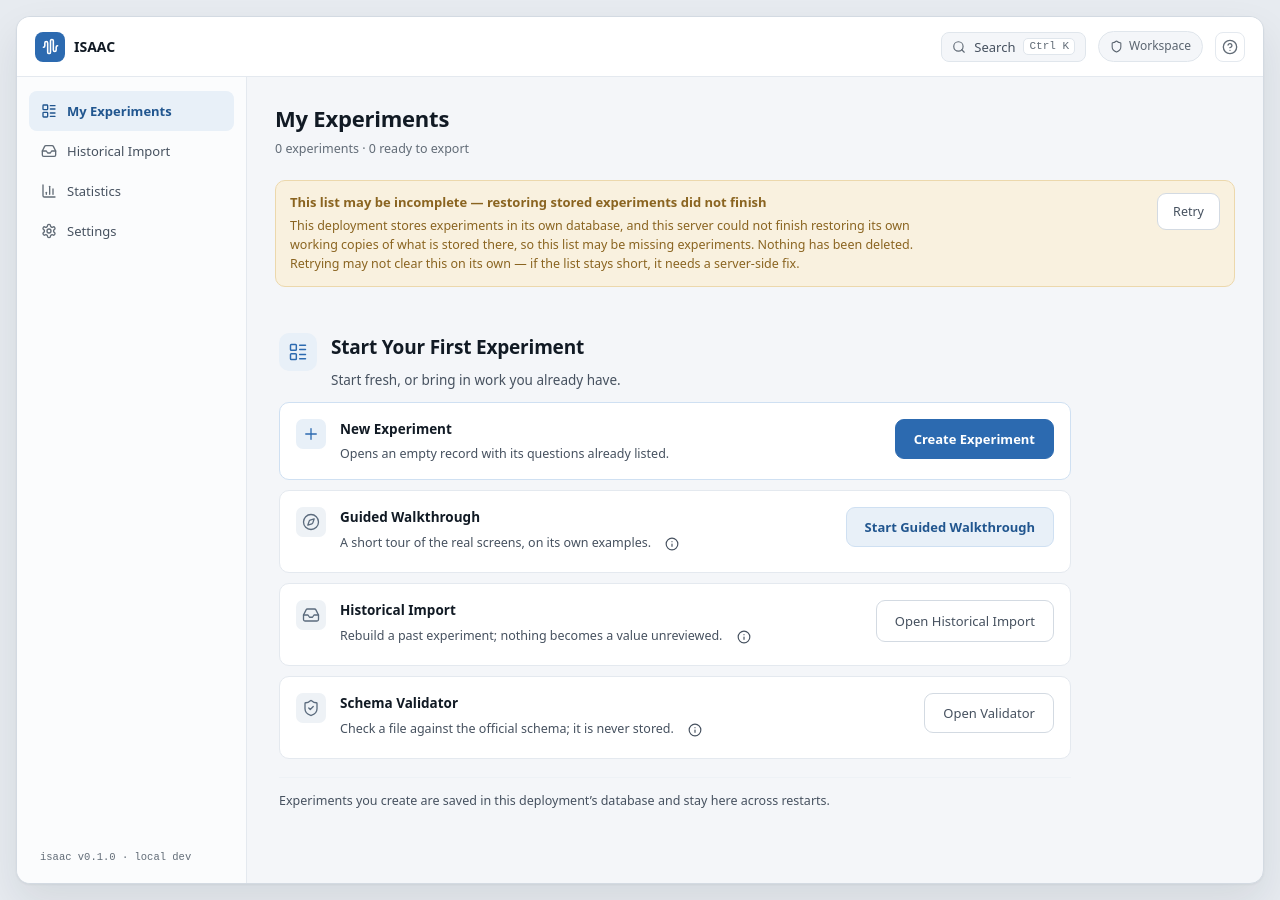
Scenario: My Experiments · the list-completeness disclosure › Retry re-reads the list, and the notice goes when the server stops claiming it
Expected: the message is shown, [275, 180, 1235, 287]
Click the button "Retry": (1189, 212) [1157, 194, 1220, 230]
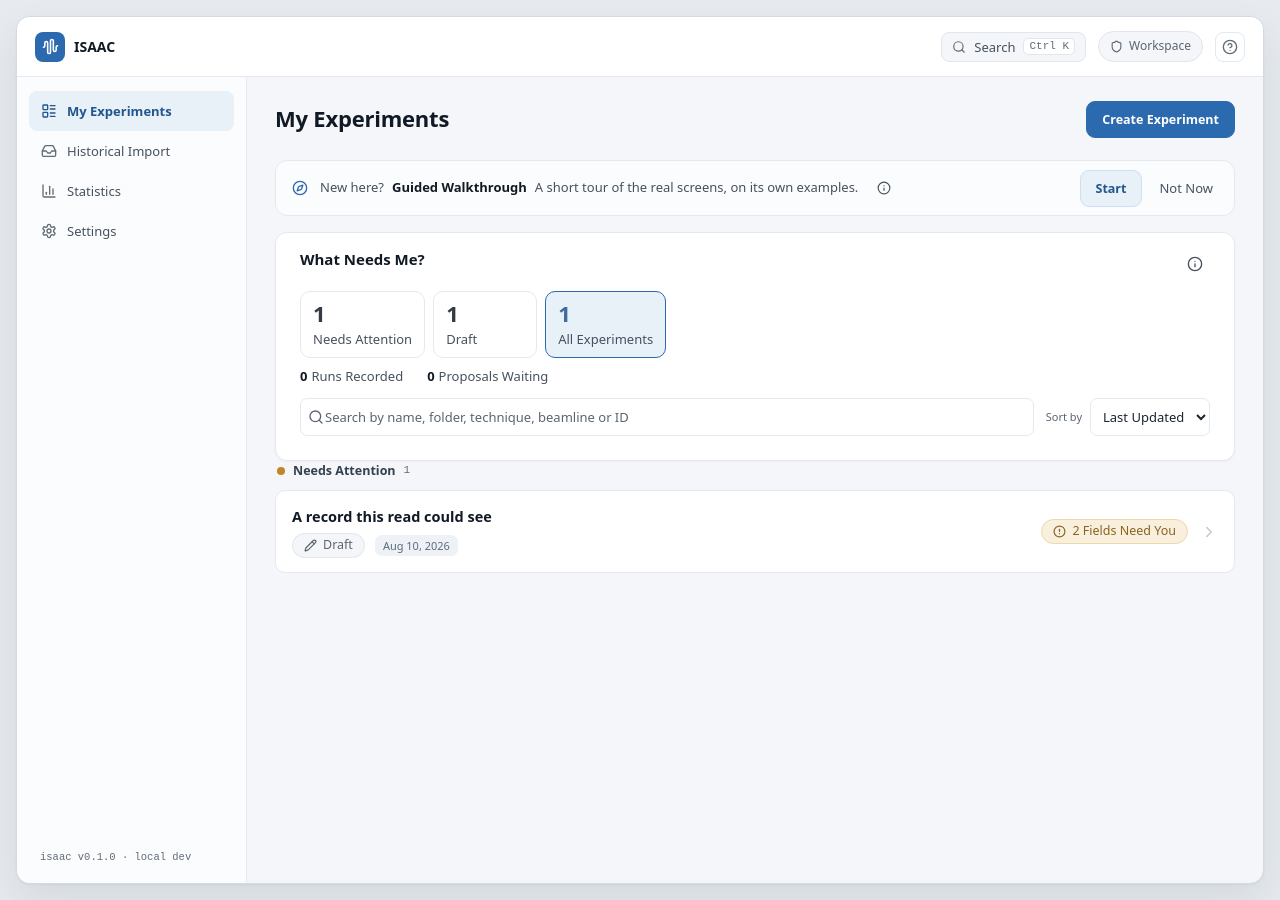
Result: the message is gone
Result: the text "A record this read could see" is shown at [292, 506, 492, 526]
